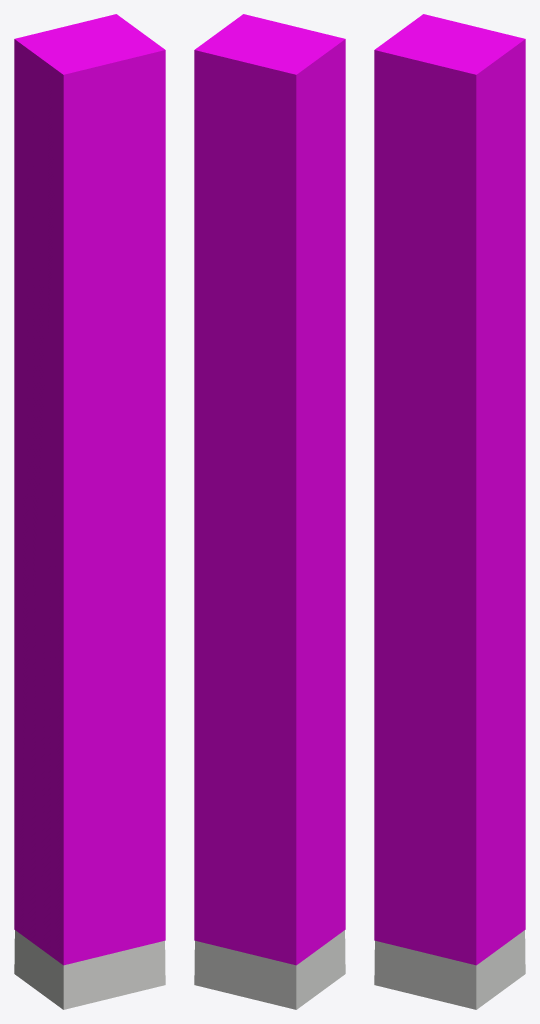
The model's file is EN_Road_Delineator.fbx.
The picture shows the model from 3 angles, left to right: view 1: azimuth 30°, elevation 25°; view 2: azimuth 150°, elevation 25°; view 3: azimuth 330°, elevation 25°; orthographic projection.
Parts seen in each view (by area): view 1: COL_Post, EN_Road_Delineator_Mesh; view 2: COL_Post, EN_Road_Delineator_Mesh; view 3: COL_Post, EN_Road_Delineator_Mesh.
Boxes of the visible parts, box(x1,y1,x2,y2) form: COL_Post: box(14, 14, 165, 965); EN_Road_Delineator_Mesh: box(14, 930, 165, 1009); COL_Post: box(194, 14, 345, 965); EN_Road_Delineator_Mesh: box(194, 930, 345, 1009); COL_Post: box(374, 14, 525, 965); EN_Road_Delineator_Mesh: box(374, 930, 525, 1009).
Size of the model in its own units: 0.12 by 1.05 by 0.1.
